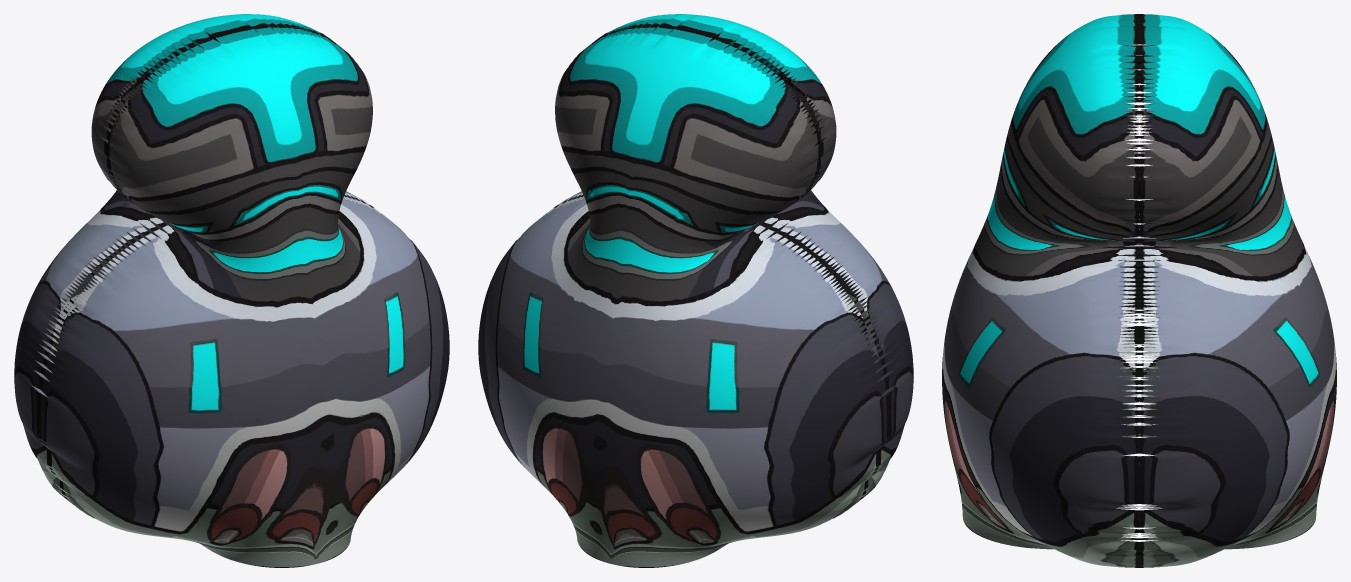
Rendered from corner_turret.glb.
3 renders of one model, left to right at view 1: azimuth 30°, elevation 25°; view 2: azimuth 150°, elevation 25°; view 3: azimuth 270°, elevation 25°, orthographic. The views are drawn at different scales.
Visible parts, largest first — view 1: corner_turret; view 2: corner_turret; view 3: corner_turret.
Part boxes in pixels (x1,y1,x2,y2): corner_turret: [14, 14, 449, 567]; corner_turret: [478, 14, 913, 567]; corner_turret: [942, 14, 1336, 567].
Bounding box in the file's own units: 0.9872 × 1.15 × 0.8496.
Materials: 1 (1 with a texture image).
